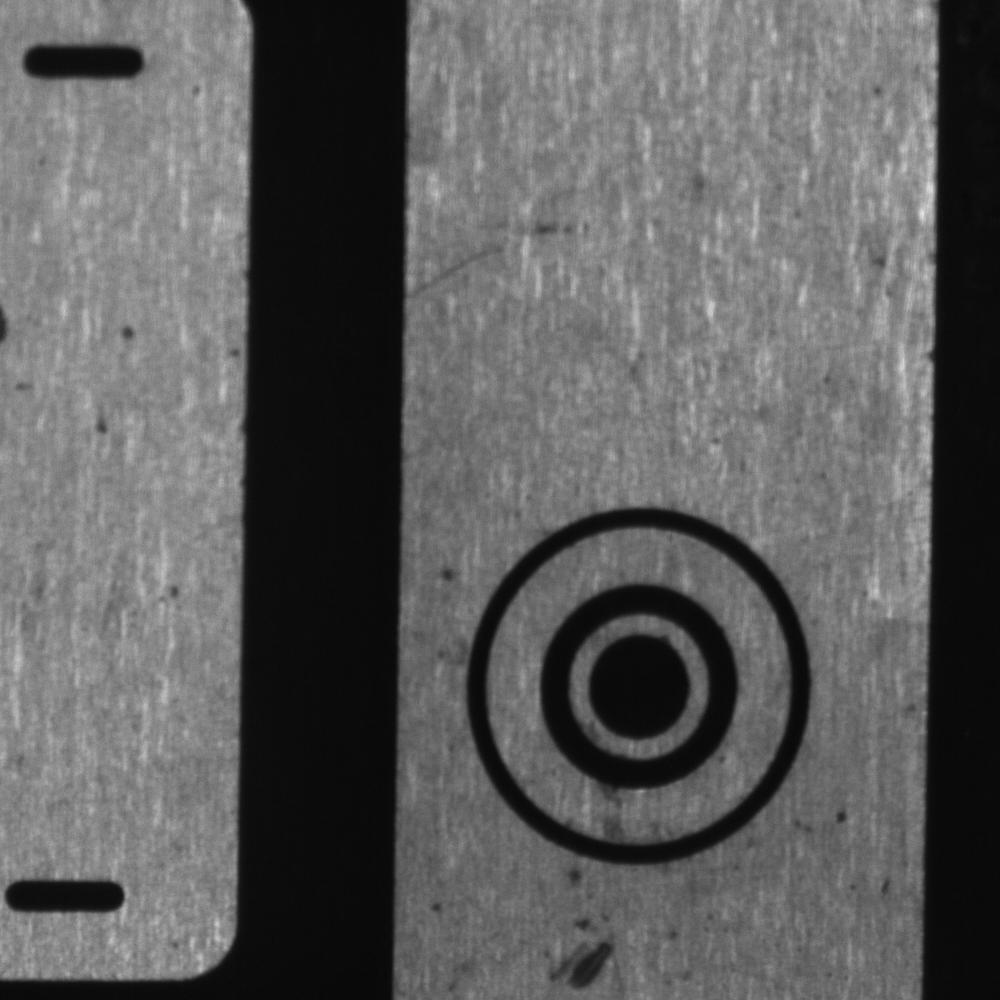Etching: (522, 859, 626, 993), (531, 198, 596, 245), (781, 801, 857, 841), (88, 397, 119, 442)
Pinhole: (426, 552, 470, 593), (109, 314, 146, 352)
Scar: (406, 230, 514, 308)
